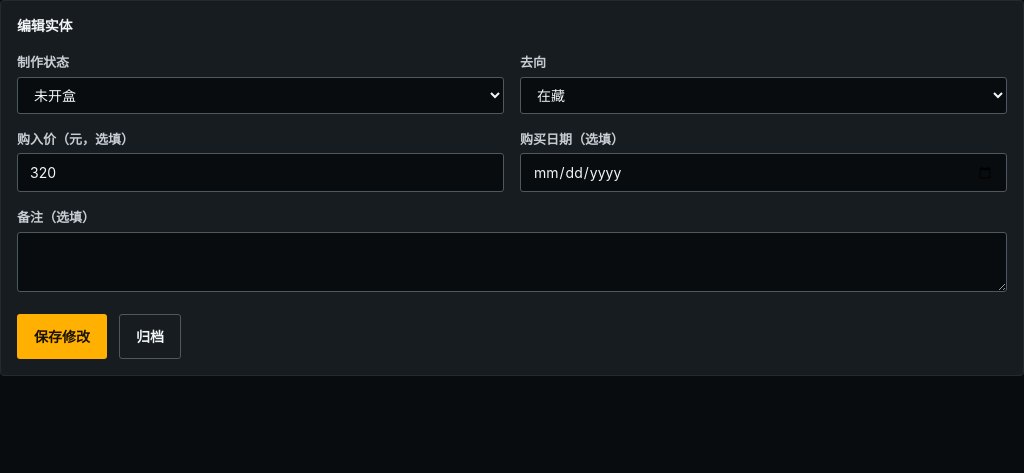
Test: AssetEditForm 组件 › 切换为已完成时显示自动 100%（不可改小）
Select "已完成" in the dropdown labelled "制作状态" at (260, 95), box x1=17 y1=76 x2=504 y2=114
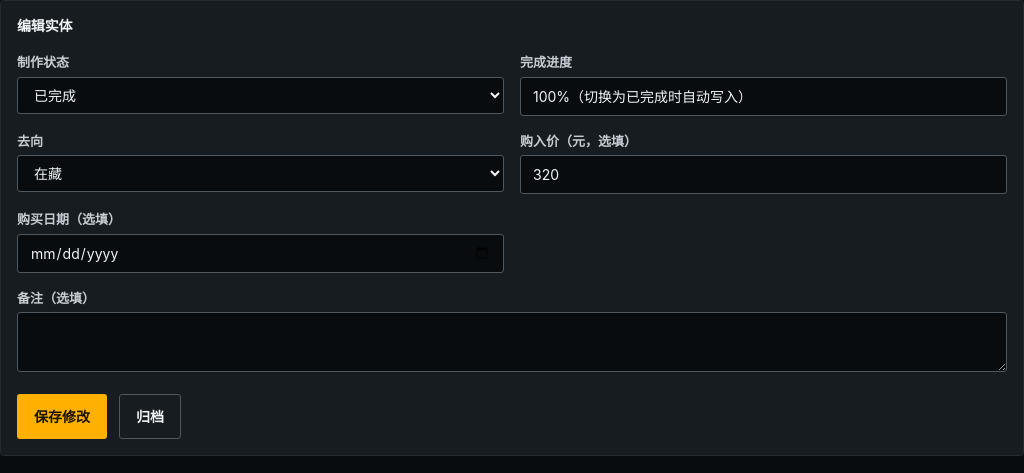
Expected: the text "100%（切换为已完成时自动写入）" is shown, x1=520 y1=76 x2=1007 y2=116
